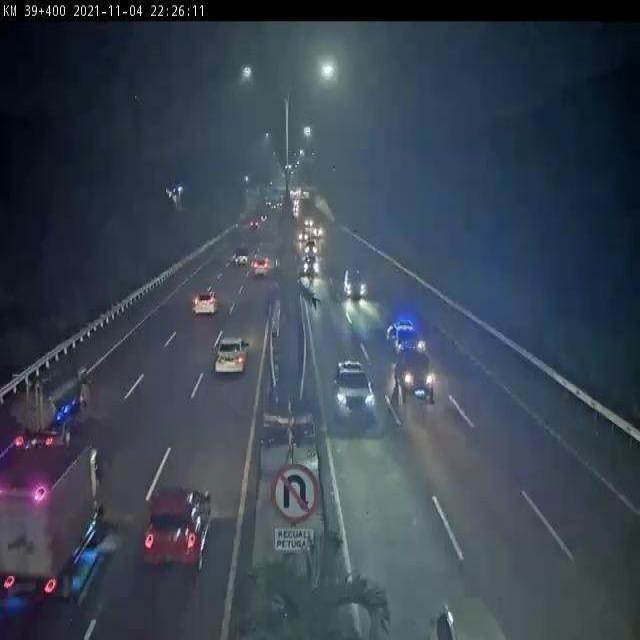big truck: (31, 349, 83, 434)
car: (410, 539, 500, 632), (141, 480, 203, 564), (194, 326, 259, 391), (42, 552, 92, 635), (587, 581, 640, 640), (325, 334, 371, 398), (385, 348, 436, 403), (173, 276, 231, 321), (234, 244, 280, 285), (217, 246, 250, 286), (391, 316, 417, 348), (335, 257, 354, 283), (355, 293, 376, 315), (238, 222, 258, 238), (298, 220, 310, 244), (297, 240, 314, 256), (411, 488, 413, 489)
truck-m-: (10, 441, 98, 572)
